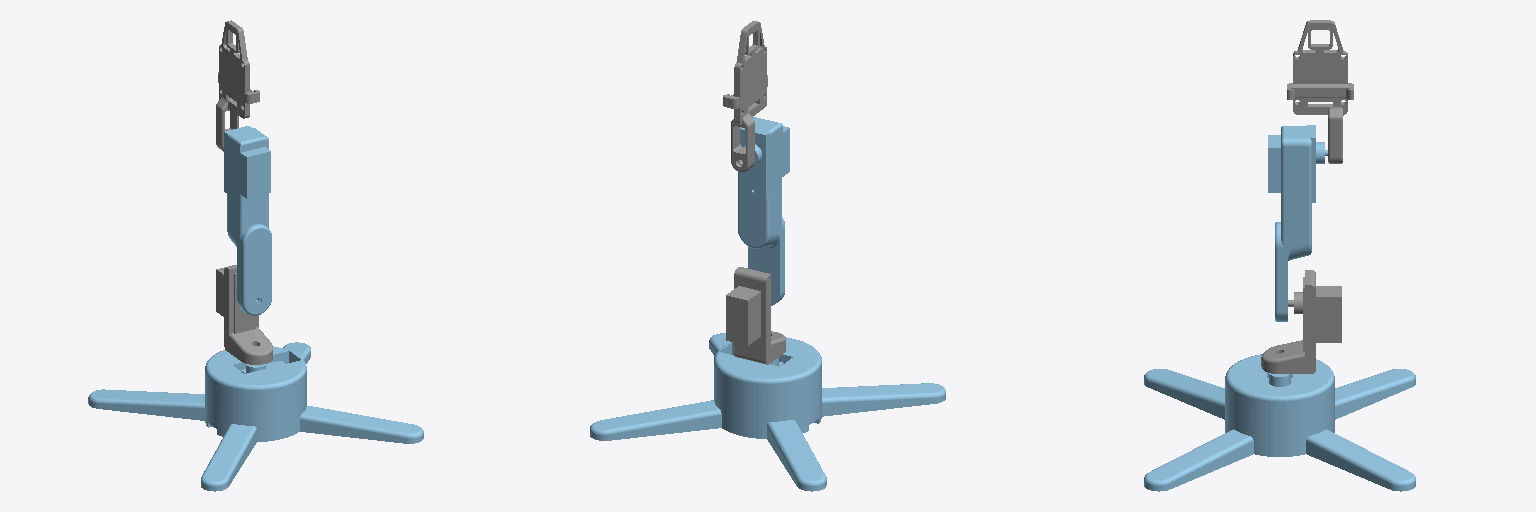
robot.urdf — urdf:
<?xml version="1.0" ?>
<!-- Generated using onshape-to-robot -->
<!-- Onshape https://cad.onshape.com/documents/93e48abd5146c7d1ed49480b/w/1ec53cad82eaba3f57507604/e/4581709cacf6385ab5fad6e1 -->
<robot name="urdf">
  <!-- Link base -->
  <link name="base">
    <inertial>
      <origin xyz="0 0 0" rpy="0 0 0"/>
      <mass value="1e-09"/>
      <inertia ixx="1e-09" ixy="0" ixz="0" iyy="1e-09" iyz="0" izz="1e-09"/>
    </inertial>
    <!-- Part base -->
    <visual>
      <origin xyz="-1.9787e-05 0.000150165 0.00198512" rpy="-9.86076e-32 -2.67091e-61 -1.24415e-29"/>
      <geometry>
        <mesh filename="package://assets/base.stl"/>
      </geometry>
      <material name="base_material">
        <color rgba="0.615686 0.811765 0.929412 1.0"/>
      </material>
    </visual>
    <collision>
      <origin xyz="-1.9787e-05 0.000150165 0.00198512" rpy="-9.86076e-32 -2.67091e-61 -1.24415e-29"/>
      <geometry>
        <mesh filename="package://assets/base.stl"/>
      </geometry>
    </collision>
  </link>
  <!-- Link shoulder -->
  <link name="shoulder">
    <inertial>
      <origin xyz="0 0 0" rpy="0 0 0"/>
      <mass value="1e-09"/>
      <inertia ixx="1e-09" ixy="0" ixz="0" iyy="1e-09" iyz="0" izz="1e-09"/>
    </inertial>
    <!-- Part shoulder -->
    <visual>
      <origin xyz="0 -0.0165 -0.0225" rpy="-1.5708 -1.5708 0"/>
      <geometry>
        <mesh filename="package://assets/shoulder.stl"/>
      </geometry>
      <material name="shoulder_material">
        <color rgba="0.647059 0.647059 0.647059 1.0"/>
      </material>
    </visual>
    <collision>
      <origin xyz="0 -0.0165 -0.0225" rpy="-1.5708 -1.5708 0"/>
      <geometry>
        <mesh filename="package://assets/shoulder.stl"/>
      </geometry>
    </collision>
  </link>
  <!-- Link arm -->
  <link name="arm">
    <inertial>
      <origin xyz="0 0 0" rpy="0 0 0"/>
      <mass value="1e-09"/>
      <inertia ixx="1e-09" ixy="0" ixz="0" iyy="1e-09" iyz="0" izz="1e-09"/>
    </inertial>
    <!-- Part arm -->
    <visual>
      <origin xyz="6.21722e-18 0.0558498 -0.003" rpy="-6.16298e-33 -0 -2.66498e-31"/>
      <geometry>
        <mesh filename="package://assets/arm.stl"/>
      </geometry>
      <material name="arm_material">
        <color rgba="0.615686 0.811765 0.929412 1.0"/>
      </material>
    </visual>
    <collision>
      <origin xyz="6.21722e-18 0.0558498 -0.003" rpy="-6.16298e-33 -0 -2.66498e-31"/>
      <geometry>
        <mesh filename="package://assets/arm.stl"/>
      </geometry>
    </collision>
  </link>
  <!-- Link head -->
  <link name="head">
    <inertial>
      <origin xyz="0 0 0" rpy="0 0 0"/>
      <mass value="1e-09"/>
      <inertia ixx="1e-09" ixy="0" ixz="0" iyy="1e-09" iyz="0" izz="1e-09"/>
    </inertial>
    <!-- Part head -->
    <visual>
      <origin xyz="0.04625 -0.0015 0.0035" rpy="-1.5708 -1.5708 0"/>
      <geometry>
        <mesh filename="package://assets/head.stl"/>
      </geometry>
      <material name="head_material">
        <color rgba="0.647059 0.647059 0.647059 1.0"/>
      </material>
    </visual>
    <collision>
      <origin xyz="0.04625 -0.0015 0.0035" rpy="-1.5708 -1.5708 0"/>
      <geometry>
        <mesh filename="package://assets/head.stl"/>
      </geometry>
    </collision>
  </link>
  <!-- Joint from arm to head -->
  <joint name="Elbow2" type="revolute">
    <origin xyz="0.0015 0.0751074 0.0185" rpy="-3.14159 -2.69696e-16 1.5708"/>
    <parent link="arm"/>
    <child link="head"/>
    <axis xyz="0 0 1"/>
    <limit effort="10" velocity="10" lower="-1.5708" upper="1.5708"/>
  </joint>
  <!-- Joint from shoulder to arm -->
  <joint name="Elbow1" type="revolute">
    <origin xyz="-1.53144e-18 -0.0035 -0.0319477" rpy="-1.5708 -6.18403e-15 3.14159"/>
    <parent link="shoulder"/>
    <child link="arm"/>
    <axis xyz="0 0 1"/>
    <limit effort="10" velocity="10" lower="-1.5708" upper="1.5708"/>
  </joint>
  <!-- Joint from base to shoulder -->
  <joint name="Base" type="revolute">
    <origin xyz="-1.9787e-05 0.000150165 0.0359851" rpy="-3.14159 -1.0629e-16 -1.66533e-16"/>
    <parent link="base"/>
    <child link="shoulder"/>
    <axis xyz="0 0 1"/>
    <limit effort="10" velocity="10" lower="-1.5708" upper="1.5708"/>
  </joint>
</robot>

--- Facts derived from the render (not from the file) ---
The picture shows the robot from 3 angles, left to right: view 1: azimuth 30°, elevation 25°; view 2: azimuth 150°, elevation 25°; view 3: azimuth 270°, elevation 25°; orthographic projection.
Model urdf with 4 links and 3 joints (3 revolute), rooted at base, posed every joint at zero.
Links seen in each view (by area): view 1: base, arm, head, shoulder; view 2: base, arm, shoulder, head; view 3: base, arm, head, shoulder.
Link boxes in pixels (x1=…): base: x1=88, y1=342, x2=423, y2=491; arm: x1=224, y1=126, x2=271, y2=315; head: x1=216, y1=20, x2=259, y2=151; shoulder: x1=216, y1=265, x2=272, y2=364; base: x1=590, y1=333, x2=945, y2=491; arm: x1=738, y1=117, x2=789, y2=305; shoulder: x1=726, y1=267, x2=785, y2=364; head: x1=723, y1=21, x2=767, y2=171; base: x1=1144, y1=354, x2=1415, y2=491; arm: x1=1268, y1=125, x2=1327, y2=321; head: x1=1287, y1=20, x2=1353, y2=163; shoulder: x1=1261, y1=270, x2=1341, y2=373.
Bounding box of the posed robot: 0.1243 × 0.1243 × 0.2071 m (x, y, z).
4 mesh visuals loaded from 4 distinct referenced files (4 binary STL).